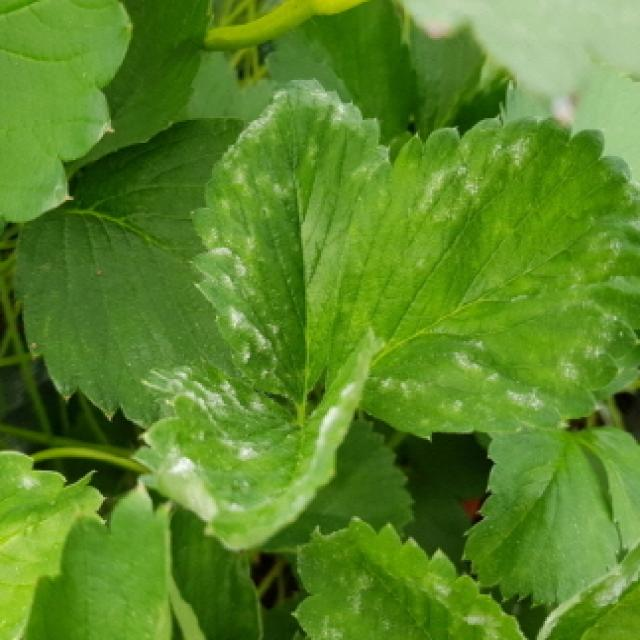Powdery Mildew Leaf: (327, 116, 640, 439), (183, 79, 386, 408), (130, 323, 376, 550), (292, 517, 531, 640), (0, 452, 107, 640)
